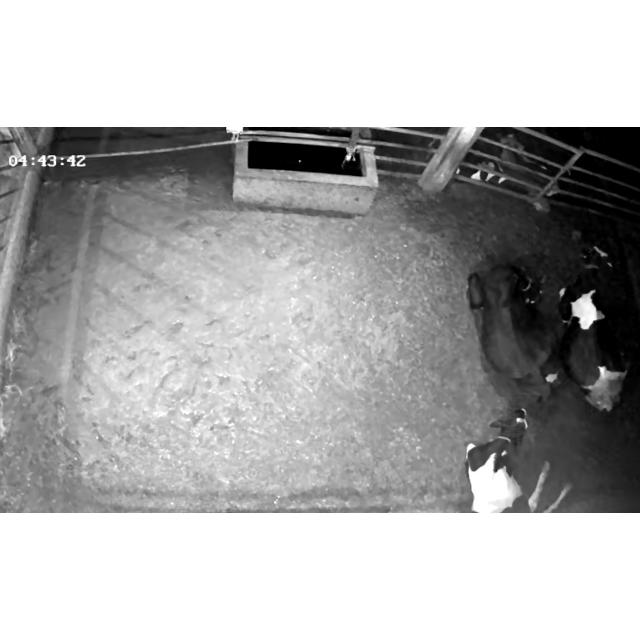lay: (552, 219, 640, 417), (450, 240, 558, 400)
